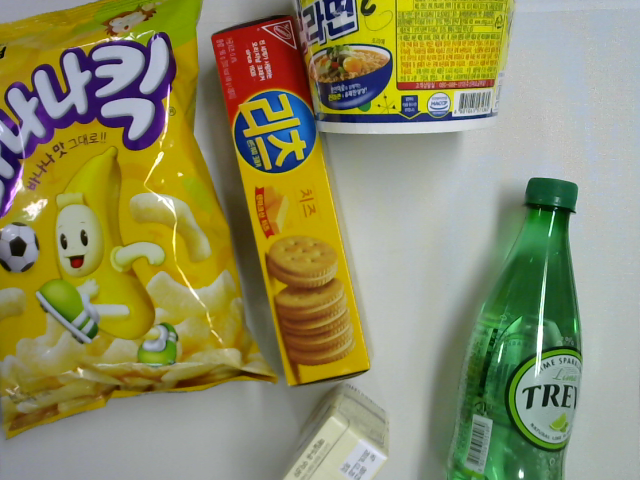99.89_Soymilk: (277, 379, 391, 480)
Banana_Kick: (1, 1, 281, 446)
Jinlamyeon_Mild_Taste_Large_Cup: (291, 1, 520, 137)
Ritz_Sand_Cracker: (208, 8, 375, 390)
Treviraim_500ml: (443, 172, 584, 480)
